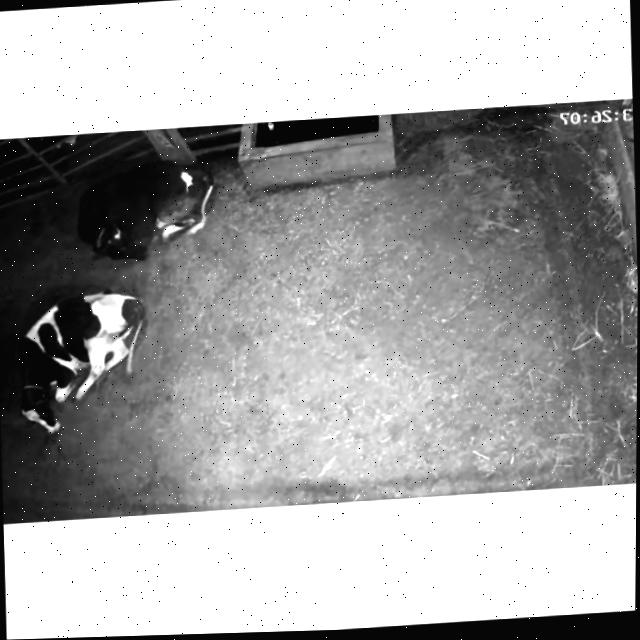lay: (9, 278, 166, 439), (64, 149, 226, 280)
